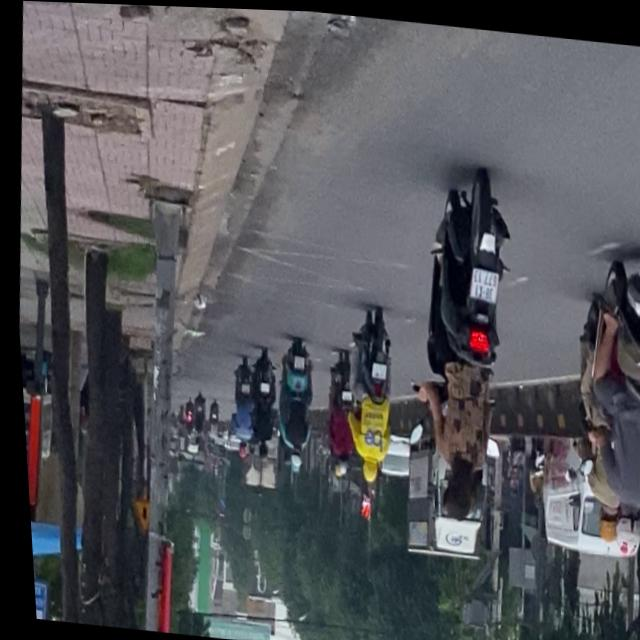helmet: (606, 500, 639, 554), (590, 503, 612, 541)
licenseplate: (396, 159, 527, 525), (555, 234, 640, 556)
motorcyclist: (436, 455, 474, 516)
nohelmet: (463, 262, 496, 299)
